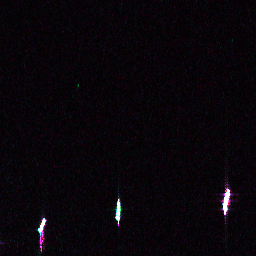ship: (219, 186, 232, 214), (113, 197, 123, 222), (35, 216, 48, 235)
